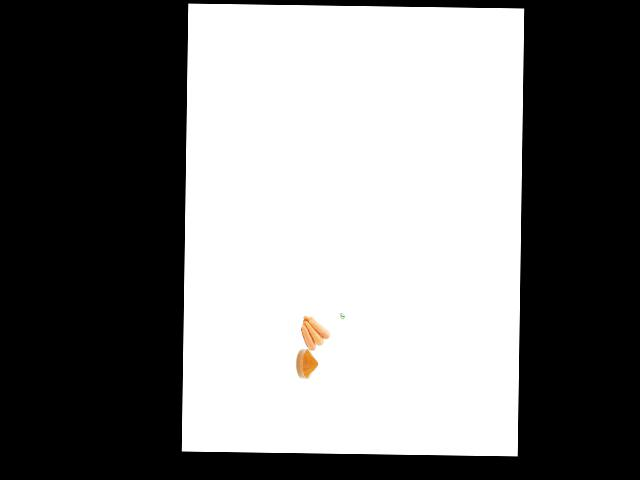carrot: (298, 323, 316, 350)
